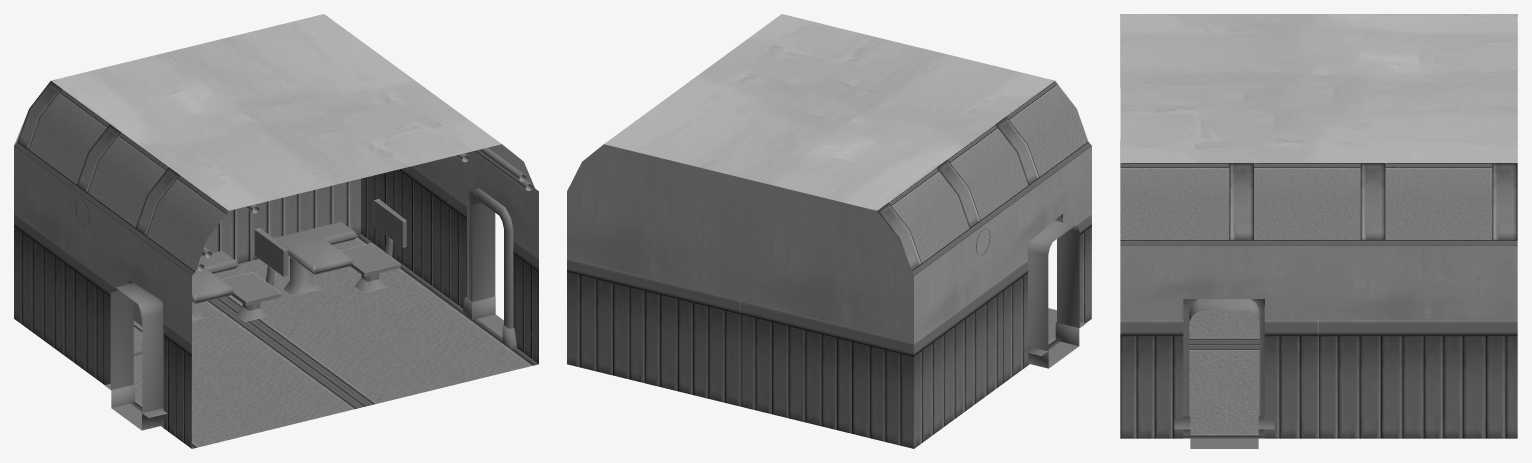
File: MSH_Class_room_L1_R1_optimized.fbx
3 views of the same model, side by side, from view 1: azimuth 30°, elevation 25°; view 2: azimuth 150°, elevation 25°; view 3: azimuth 270°, elevation 25° (orthographic). The views are drawn at different scales.
Parts seen in each view (by area): view 1: lightmap1, lightmap0, lightmap-1; view 2: lightmap1, lightmap-1; view 3: lightmap1, lightmap-1.
Boxes of the visible parts, x1,y1,x2,y2 form: lightmap1: (14,14,538,448); lightmap0: (75,147,532,356); lightmap-1: (110,199,503,430); lightmap1: (567,14,1091,448); lightmap-1: (1027,220,1079,368); lightmap1: (1120,14,1517,438); lightmap-1: (1189,299,1259,448).
Size of the model in its own units: 10.3 by 5.87 by 8.26.
